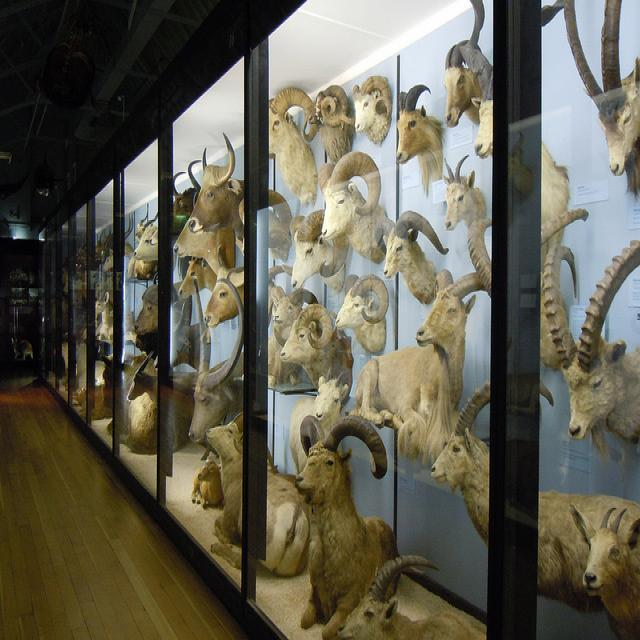cow: (188, 276, 243, 441), (187, 128, 242, 236)
